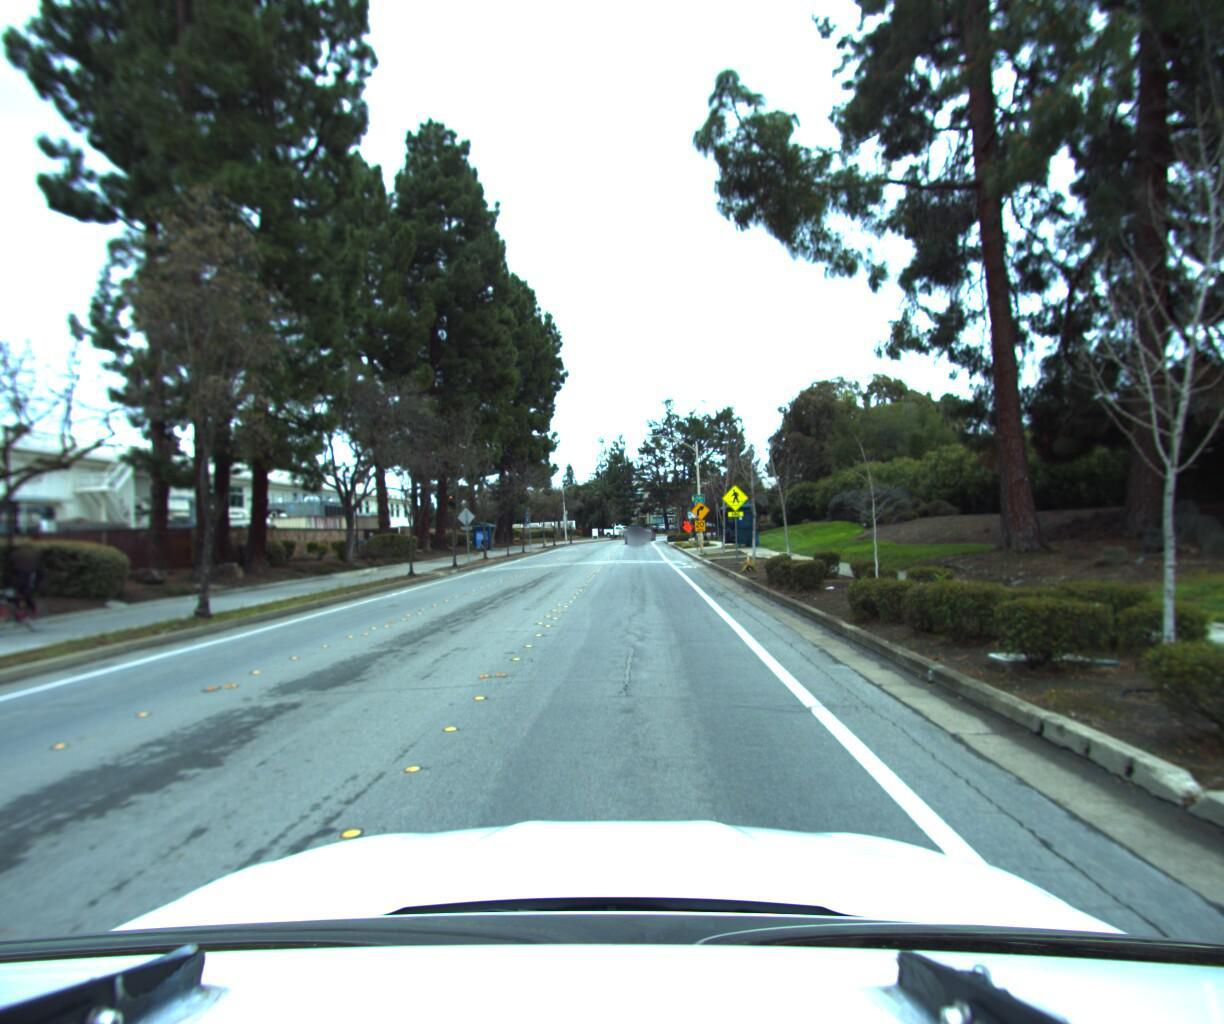bicycle: (0, 549, 68, 645)
car: (627, 518, 648, 536)
